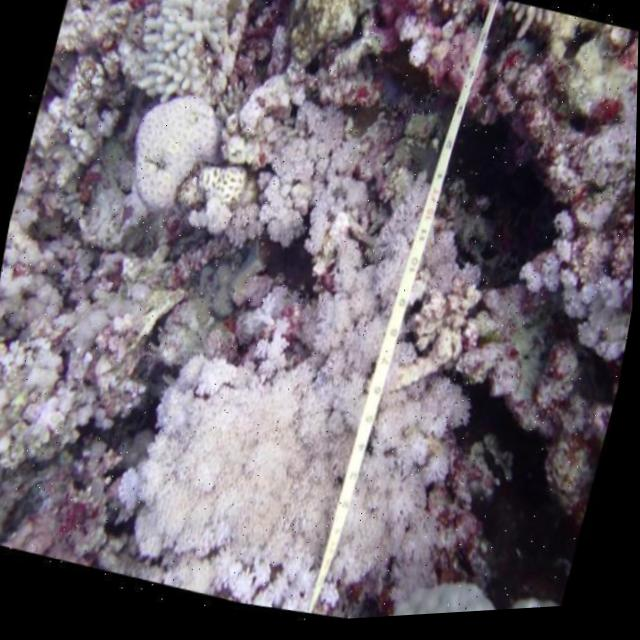Bleached Coral: (89, 333, 468, 635), (0, 61, 213, 483), (256, 172, 527, 458), (208, 83, 427, 312), (497, 174, 636, 398), (114, 0, 241, 115)
